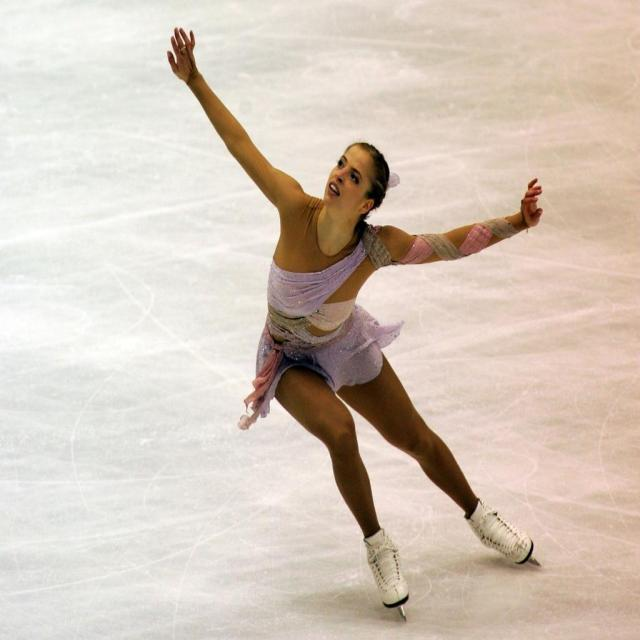nomask: (326, 140, 375, 216)
